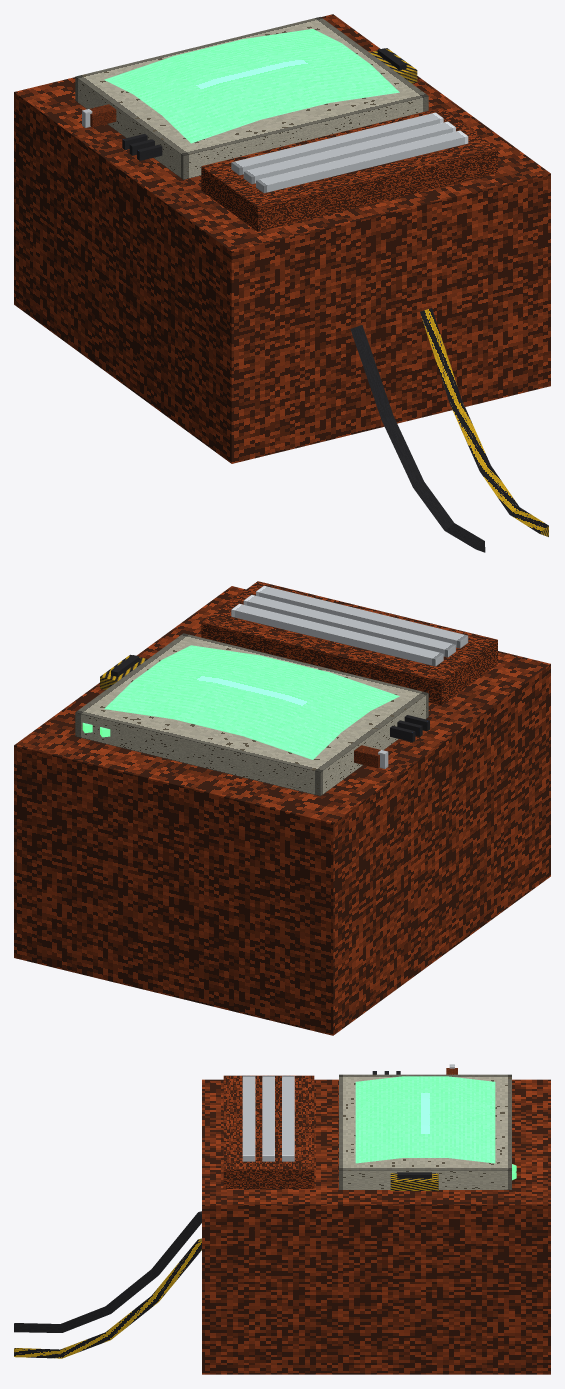
The model's file is terminal_derelict_decay.glb.
The picture shows the model from 3 angles, top to bottom: view 1: azimuth 30°, elevation 25°; view 2: azimuth 150°, elevation 25°; view 3: azimuth 270°, elevation 25°; orthographic projection. The views are drawn at different scales.
Visible parts, largest first — view 1: terminal_derelict_decay; view 2: terminal_derelict_decay; view 3: terminal_derelict_decay.
Boxes of the visible parts, <box> form: terminal_derelict_decay: <box>14,14,550,552</box>; terminal_derelict_decay: <box>14,581,550,1035</box>; terminal_derelict_decay: <box>14,1064,550,1374</box>.
Size of the model in its own units: 0.55 by 0.4753 by 1.
10 materials, 10 textured.
